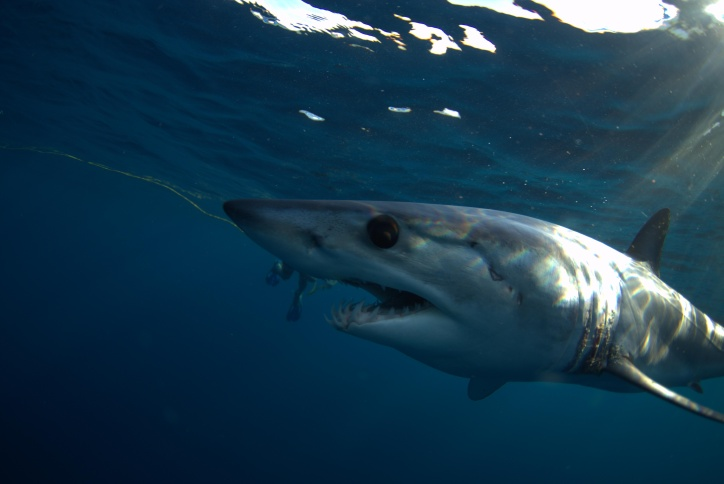Mako: (213, 176, 724, 422)
